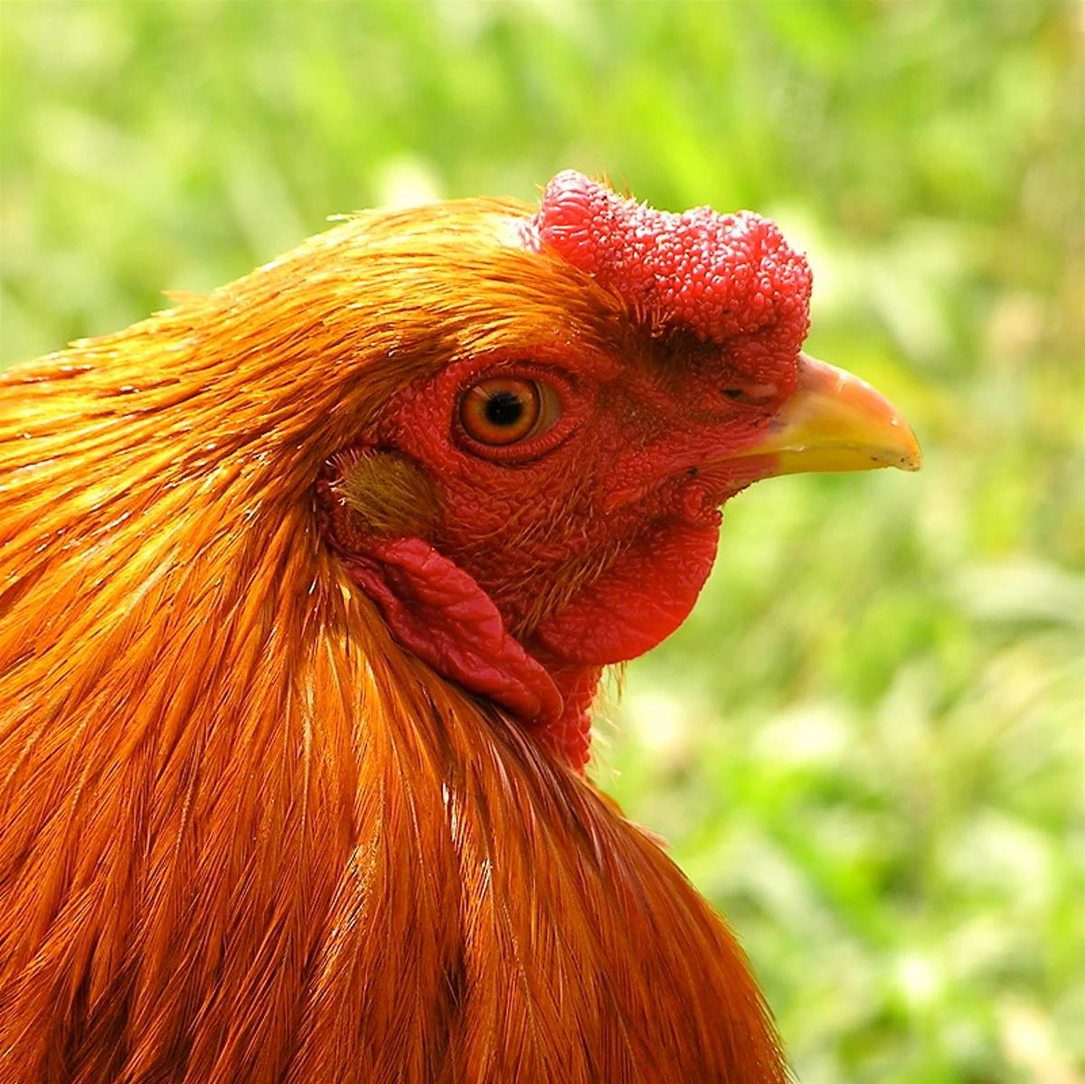AbNormal: (541, 166, 811, 407)
